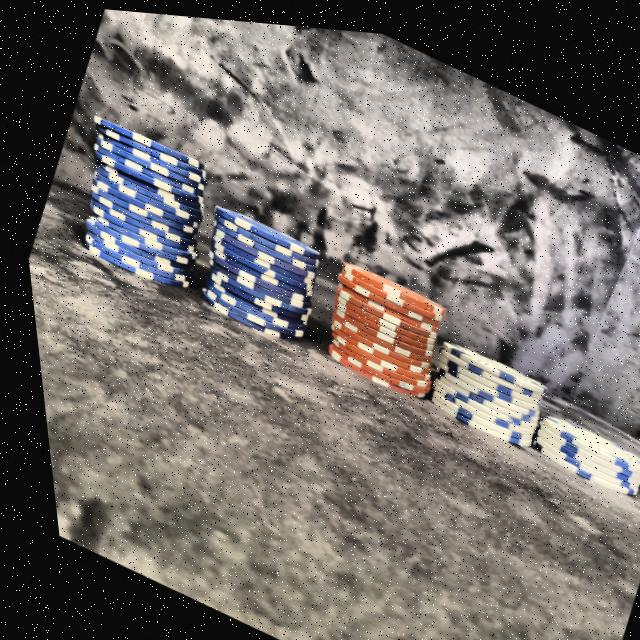Chip: (47, 111, 224, 300), (161, 183, 334, 358), (297, 243, 458, 402), (397, 307, 553, 453), (507, 385, 640, 502)
